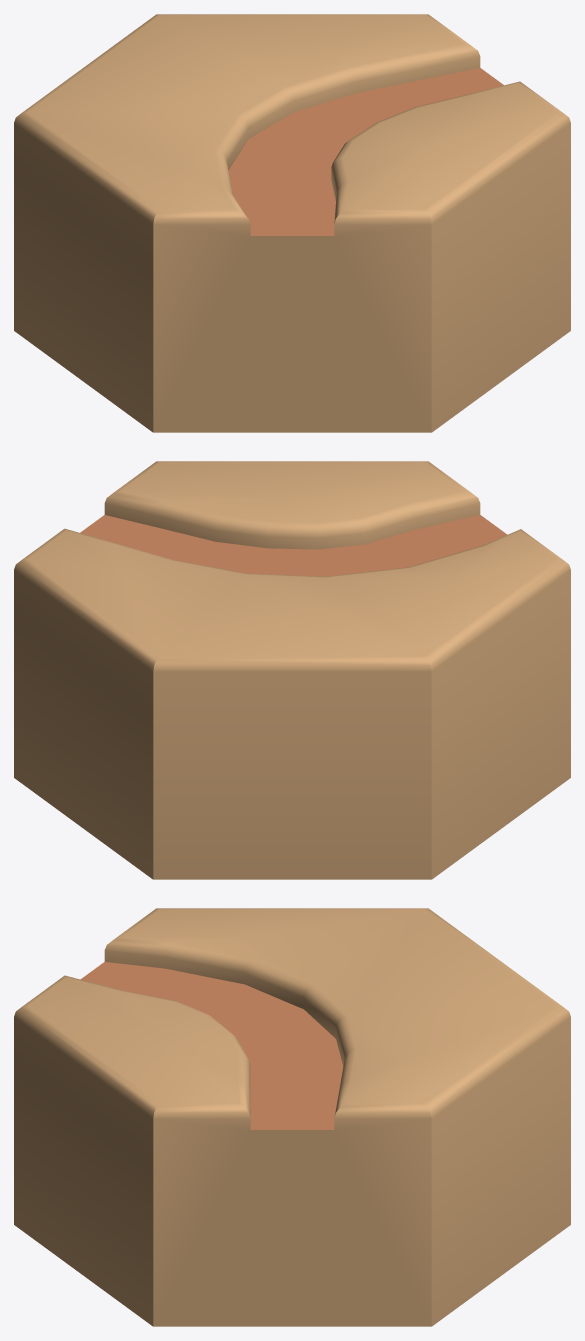
File: hex_sand_roadD.glb
3 views of the same model, one above another, from view 1: azimuth 30°, elevation 25°; view 2: azimuth 150°, elevation 25°; view 3: azimuth 270°, elevation 25° (orthographic).
Visible parts, largest first — view 1: hex_sand_roadD; view 2: hex_sand_roadD; view 3: hex_sand_roadD.
Boxes of the visible parts, x1,y1,x2,y2 form: hex_sand_roadD: (14, 14, 570, 432); hex_sand_roadD: (14, 461, 570, 879); hex_sand_roadD: (14, 908, 570, 1326).
Size of the model in its own units: 3.82 by 1.91 by 4.41.
